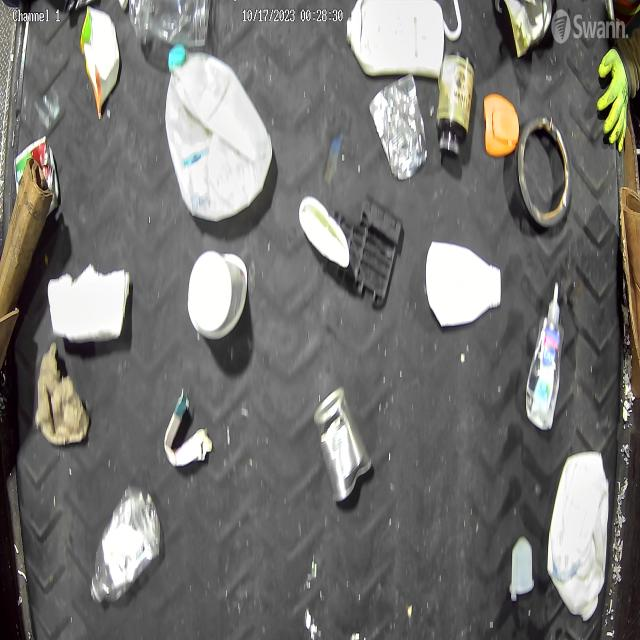can: (314, 385, 372, 505), (370, 75, 427, 182)
milk_jug: (165, 44, 274, 222), (546, 450, 608, 620)
plastic_bottle: (89, 484, 164, 607), (523, 292, 565, 434), (121, 0, 213, 47)
